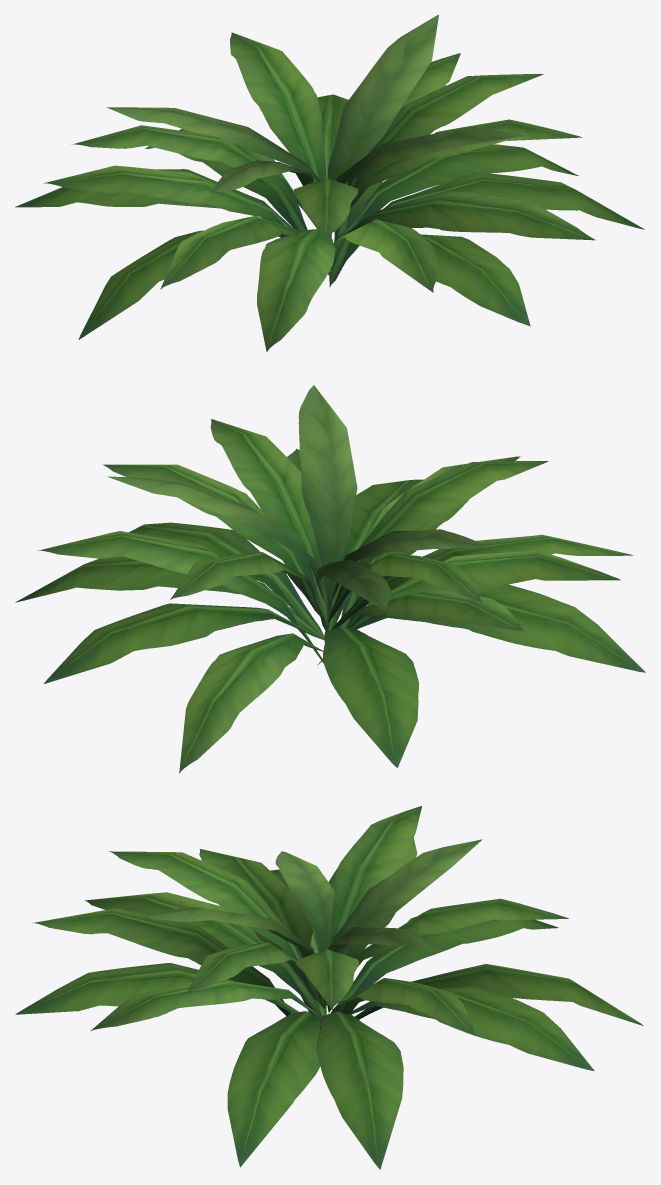
Rendered from Remains_plants_03.fbx.
3 renders of one model, top to bottom at view 1: azimuth 30°, elevation 25°; view 2: azimuth 150°, elevation 25°; view 3: azimuth 270°, elevation 25°, orthographic. The views are drawn at different scales.
Visible parts, largest first — view 1: Remains_plants_03; view 2: Remains_plants_03; view 3: Remains_plants_03.
Part boxes in pixels (box(x1,y1,x2,y2)): Remains_plants_03: box(15, 14, 644, 351); Remains_plants_03: box(15, 385, 645, 773); Remains_plants_03: box(15, 806, 643, 1169).
Bounding box in the file's own units: 98.07 × 31.88 × 97.11.
1 material, 1 textured.
